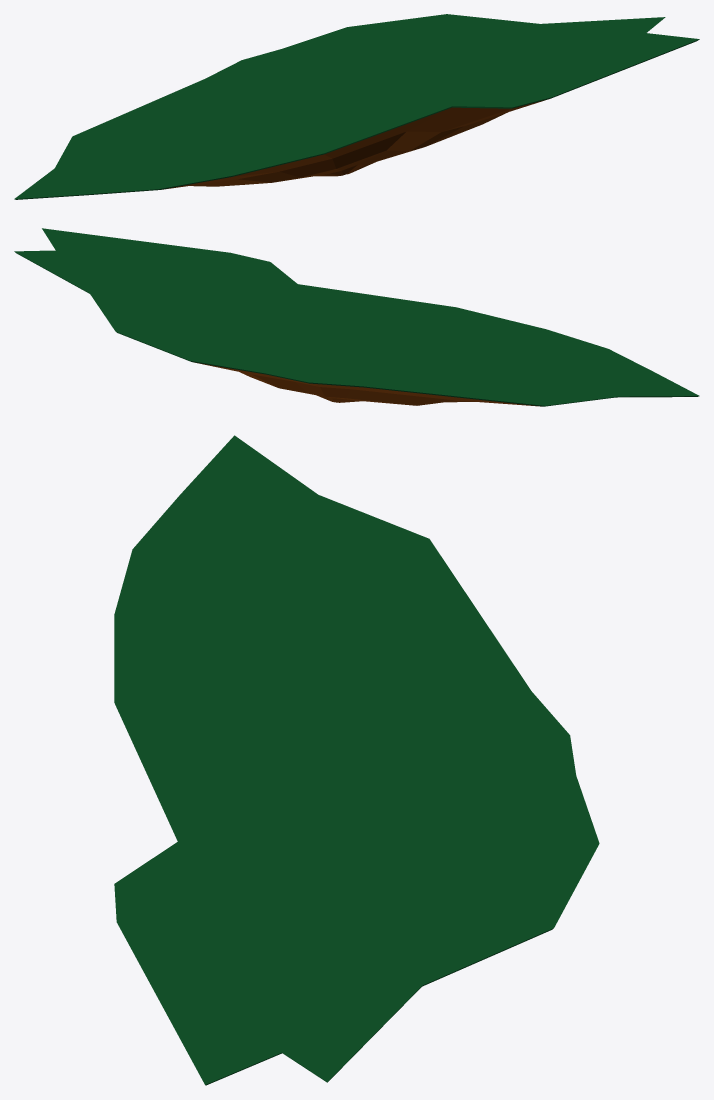
File: small island 2.glb
The picture shows the model from 3 angles, top to bottom: view 1: azimuth 30°, elevation 25°; view 2: azimuth 150°, elevation 25°; view 3: azimuth 270°, elevation 25°; orthographic projection. The views are drawn at different scales.
Visible parts, largest first — view 1: Vert.001, Vert; view 2: Vert.001, Vert; view 3: Vert.001.
Part boxes in pixels (x1,y1,x2,y2): Vert.001: (14,14,699,199); Vert: (163,99,548,189); Vert.001: (14,228,699,406); Vert: (195,362,540,406); Vert.001: (114,435,599,1085).
Bounding box in the file's own units: 11.15 × 1.19 × 3.52.
